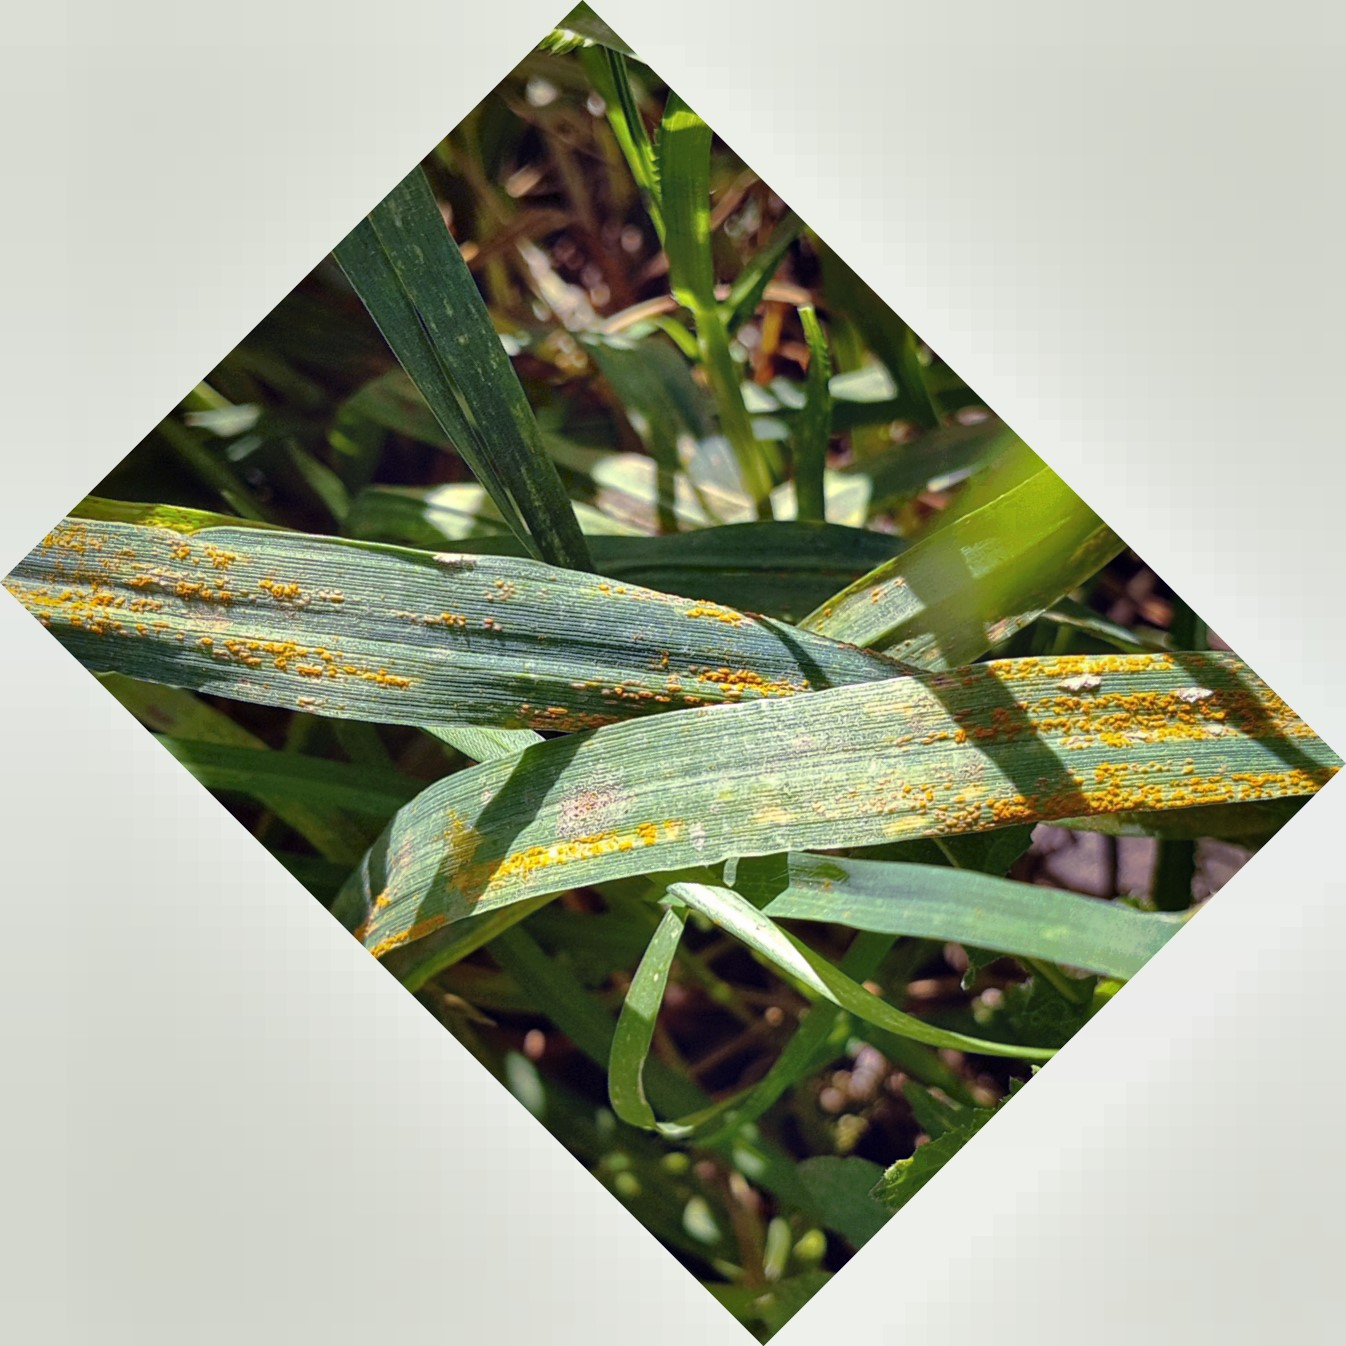Leaf Rust: (890, 589, 1292, 852), (33, 479, 398, 719)
